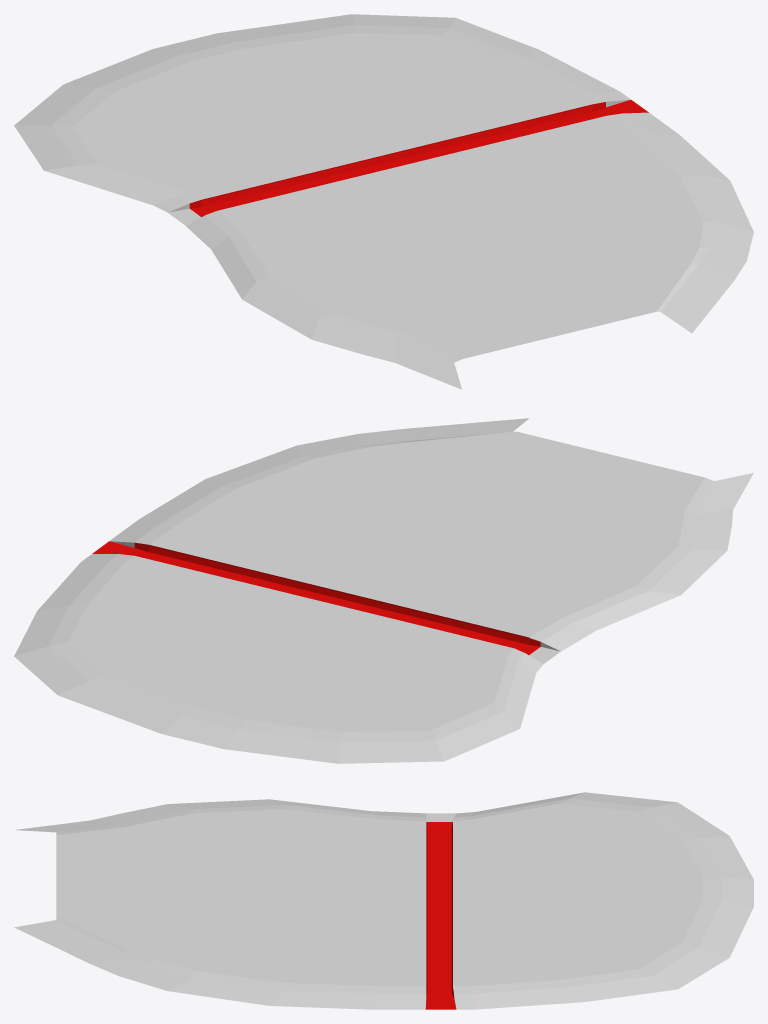
Rendered from map_floor.fbx.
The picture shows the model from 3 angles, top to bottom: view 1: azimuth 30°, elevation 25°; view 2: azimuth 150°, elevation 25°; view 3: azimuth 270°, elevation 25°; orthographic projection. The views are drawn at different scales.
Parts seen in each view (by area): view 1: Plane; view 2: Plane; view 3: Plane.
Part boxes in pixels (x1,y1,x2,y2): Plane: (14, 14, 753, 389); Plane: (14, 418, 753, 763); Plane: (14, 792, 753, 1009).
Size of the model in its own units: 525 by 6.82 by 755.
